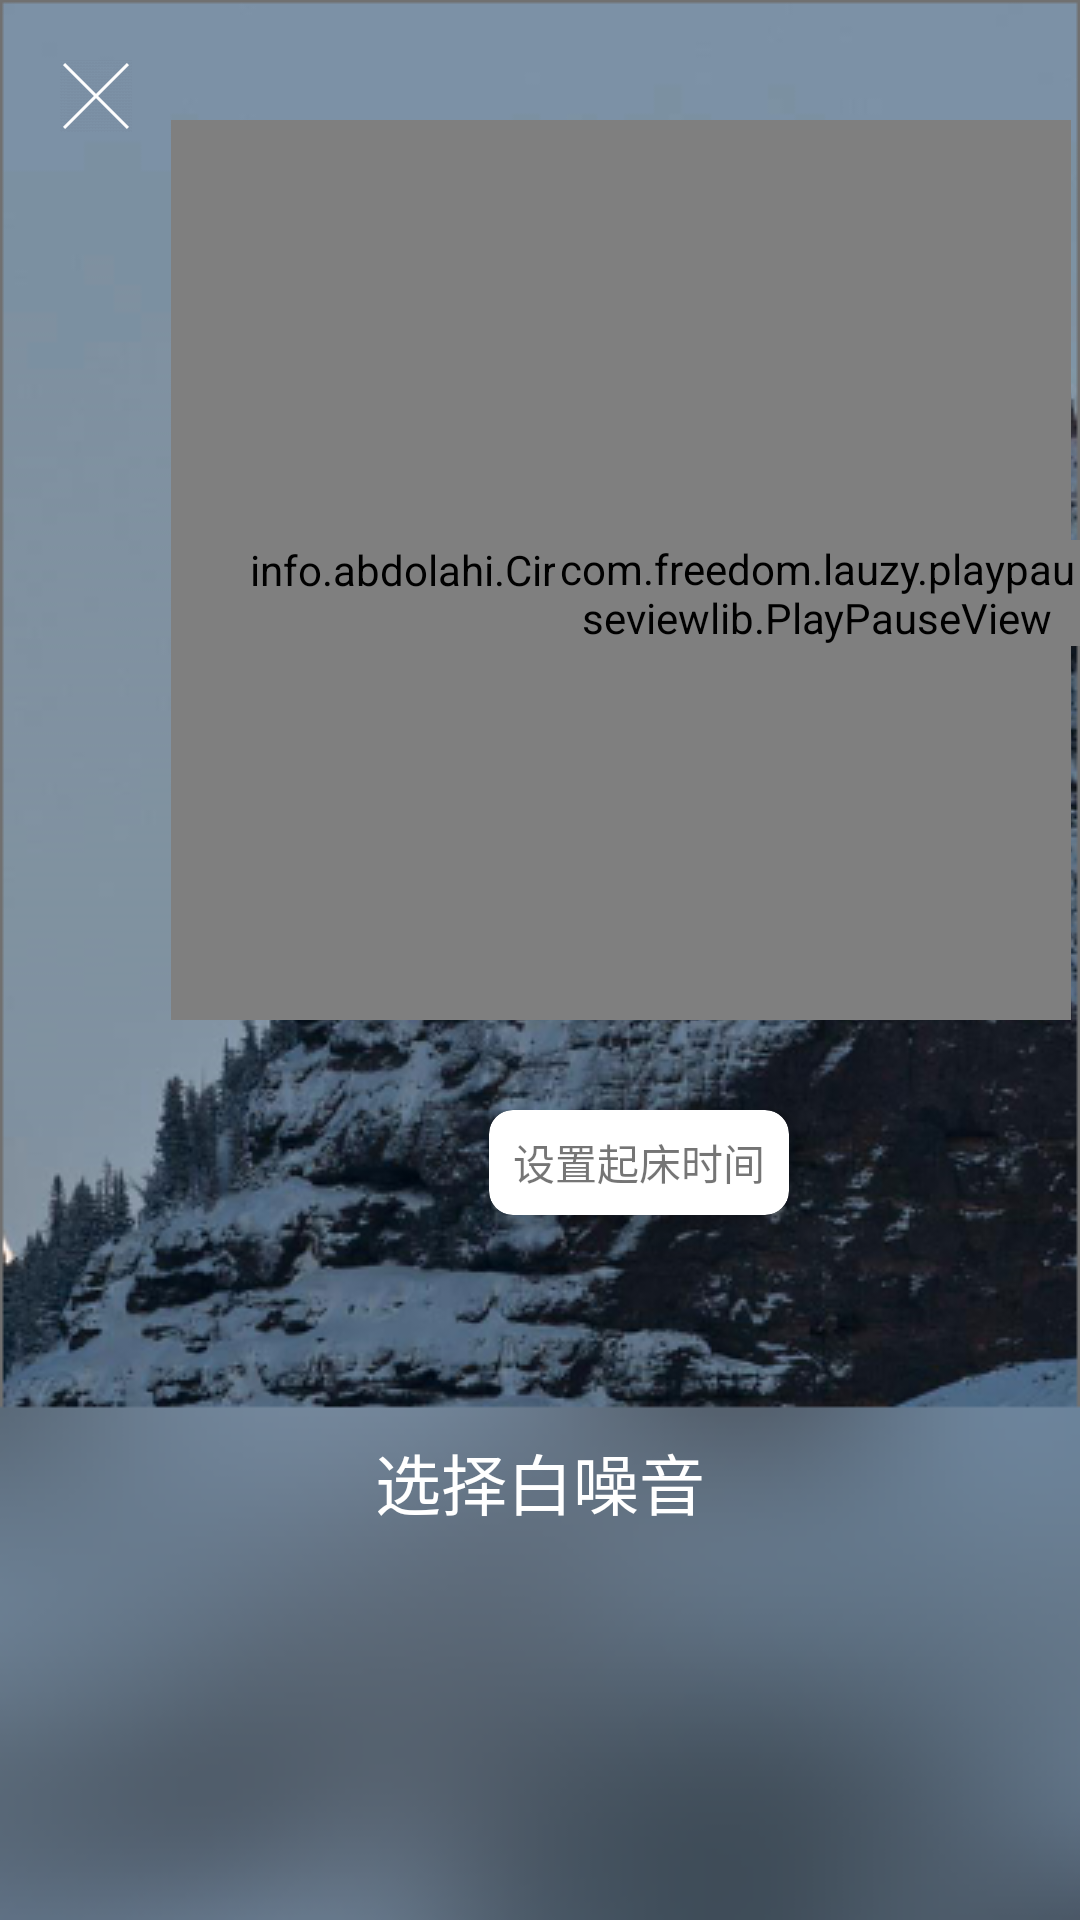

Where icons sit on this 1080 × 1920 app screen, as (x1, y1, x2, y2):
close: (0, 0, 192, 192)
